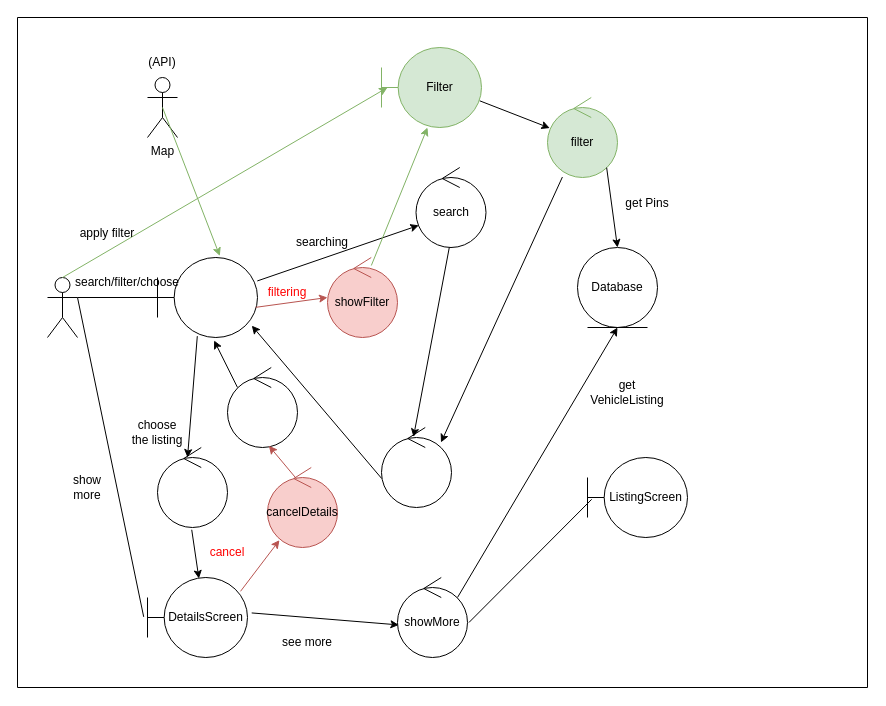
The diagram is 886 pixels wide and 706 high, and some of its shapes have lost their labels. The shapes that lost their labels are listed below. From the top down, each one's centre as x and y in pixels, then its label:
At pixel 62 307: "StandardUser".
At pixel 207 297: "MapScreen".
At pixel 262 407: "showMapScreen".
At pixel 192 487: "showDetailsScreen".
At pixel 416 467: "updateMap".
